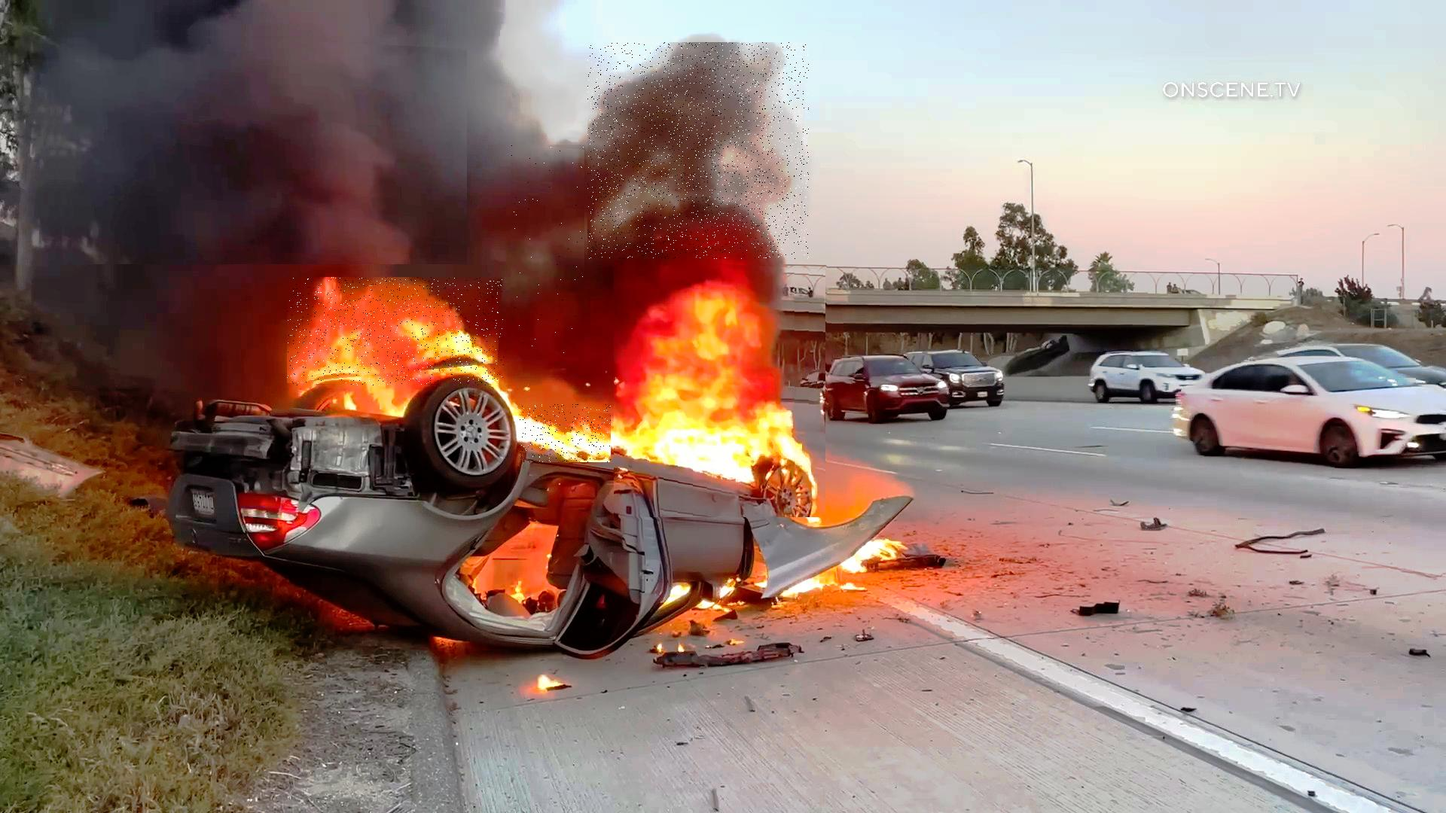fire: (614, 260, 827, 519), (287, 278, 504, 386), (520, 404, 611, 462)
smoke: (46, 27, 467, 264), (588, 42, 809, 259), (511, 145, 586, 354)
